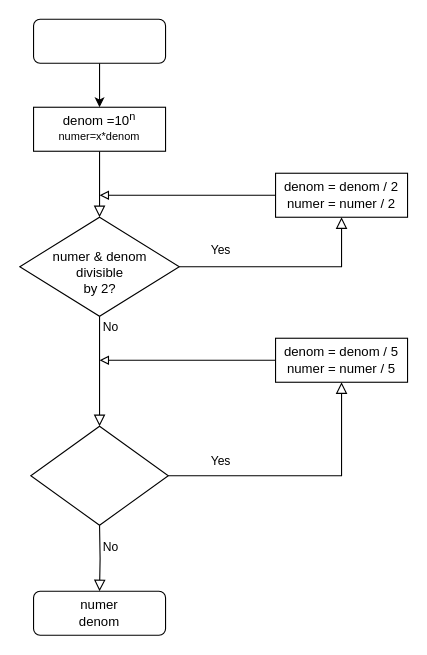
This 427x655 diagram has some shape labels left out. The centre of each missing label's shape, as x and y in pixels:
"numer & denom divisible by 5?" goes at (x=99, y=475).
"x: input number n: num decimal terms" goes at (x=99, y=40).
